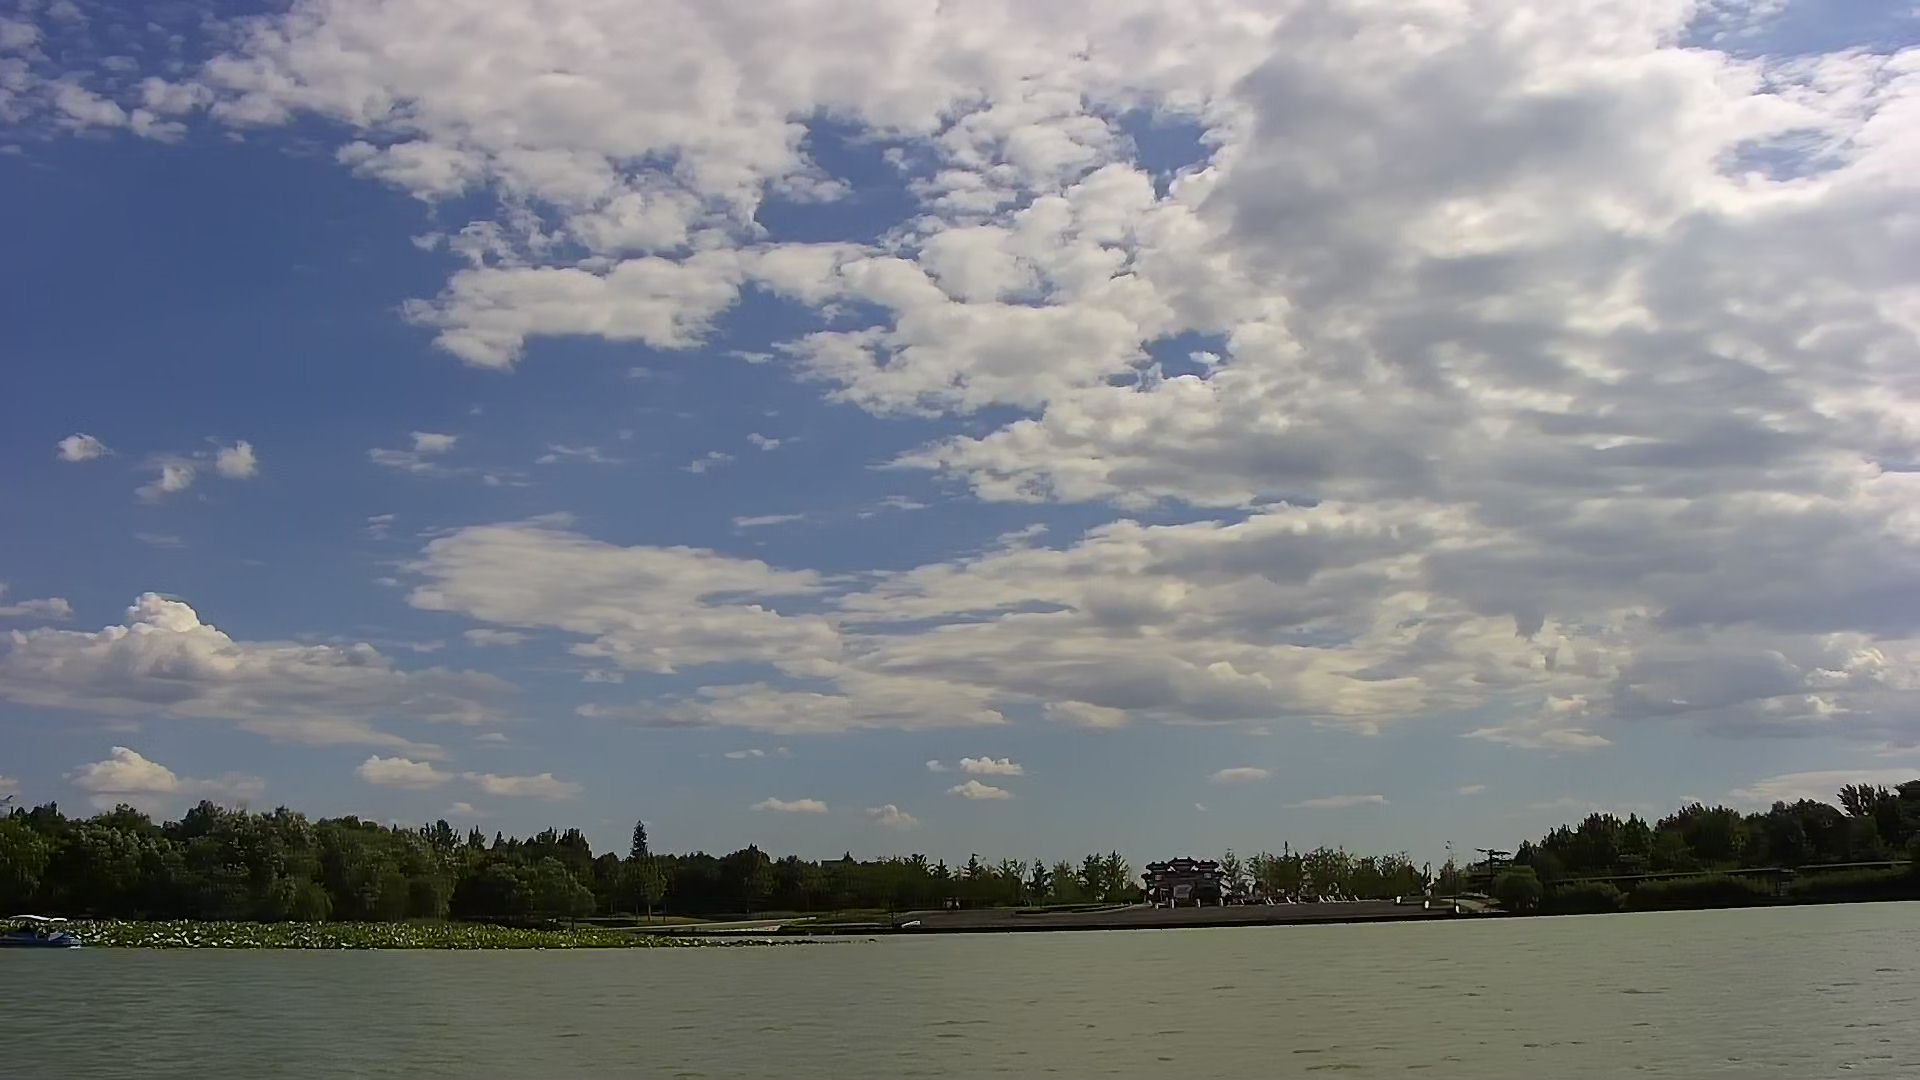boat: (1, 913, 74, 957)
harbor: (874, 895, 1507, 936)
